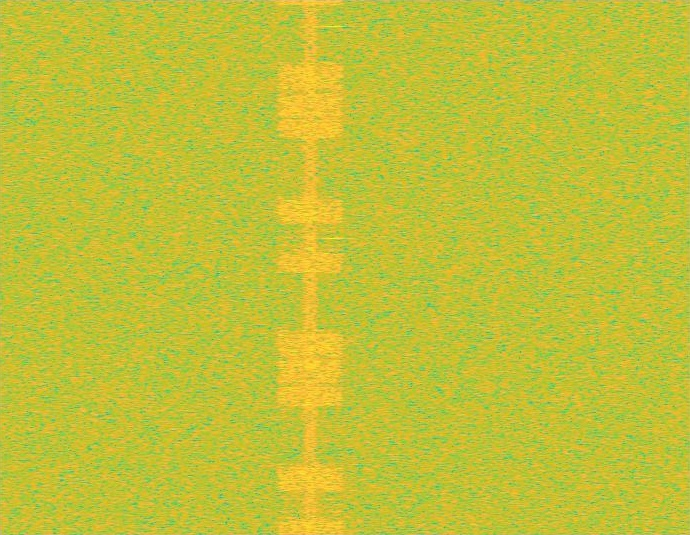DSSS: (303, 0, 318, 534)
LTE: (276, 0, 345, 534)
Radar: (326, 0, 340, 534)
